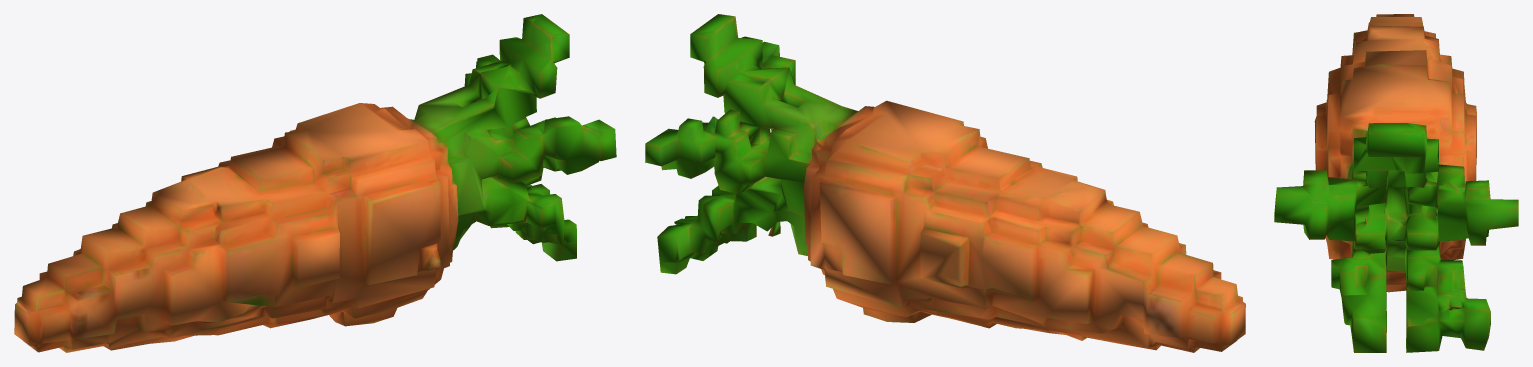
File: food-carrot.glb
The picture shows the model from 3 angles, left to right: view 1: azimuth 30°, elevation 25°; view 2: azimuth 150°, elevation 25°; view 3: azimuth 270°, elevation 25°; orthographic projection.
Visible parts, largest first — view 1: food-carrot; view 2: food-carrot; view 3: food-carrot.
Boxes of the visible parts, bbox=[...] form: food-carrot: bbox=[14, 14, 616, 352]; food-carrot: bbox=[645, 14, 1245, 352]; food-carrot: bbox=[1274, 14, 1518, 352].
Bounding box in the file's own units: 0.72 × 0.3132 × 0.2847.
1 material, 1 textured.
